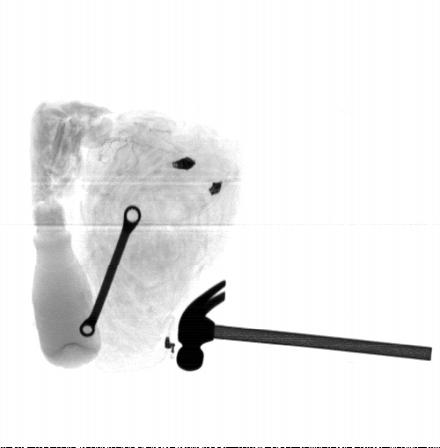Hammer: (176, 278, 433, 372)
Wrench: (79, 206, 141, 337)
